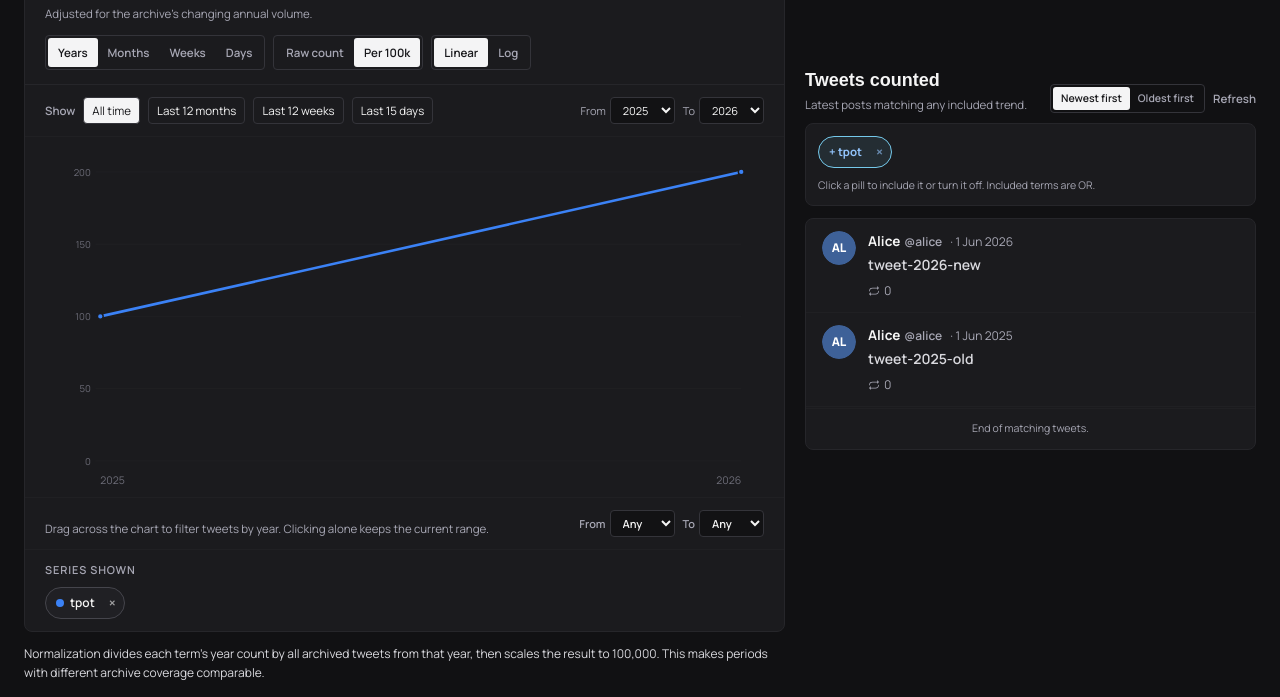
Test: TrendsExplorer request isolation › filters cached evidence immediately and debounces the range query
The image size is (1280, 697).
(page scrolled)
Expected: the text "tweet-2025-old" is shown, [868, 348, 973, 368]
Expected: the text "tweet-2026-new" is shown, [868, 254, 981, 274]
Select "2025" in the dropdown named "Tweets from year": (642, 524) [610, 510, 674, 537]
Wait 1200 ms
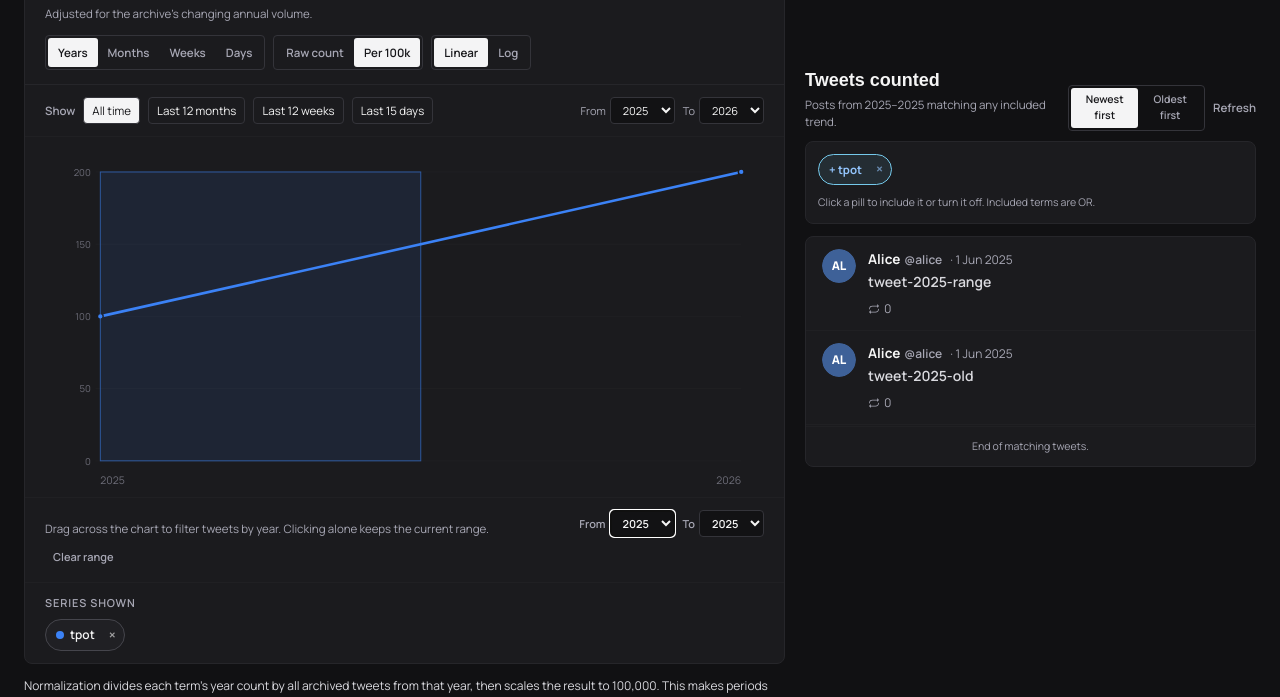
Expected: the link "tweet-2026-new" is gone
Expected: the text "tweet-2025-range" is shown, [868, 272, 991, 291]
Expected: the button "Clear range" is shown, [45, 545, 122, 570]
